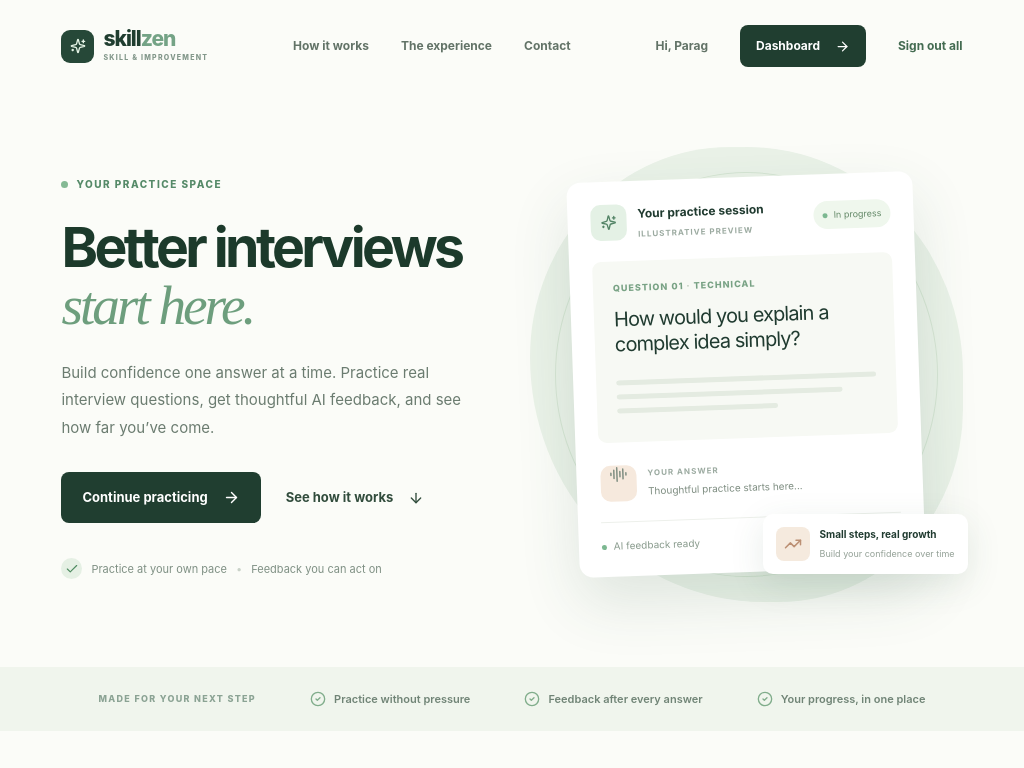
Test: landing page session › restores signed-in UI on a fresh visit and explicitly logs out
Check: the text "Hi, Parag" is shown, box [655,37,708,55]
Step 1. Click the button with aria-label "Sign out on all devices" → (930, 46), box [898,27,962,65]
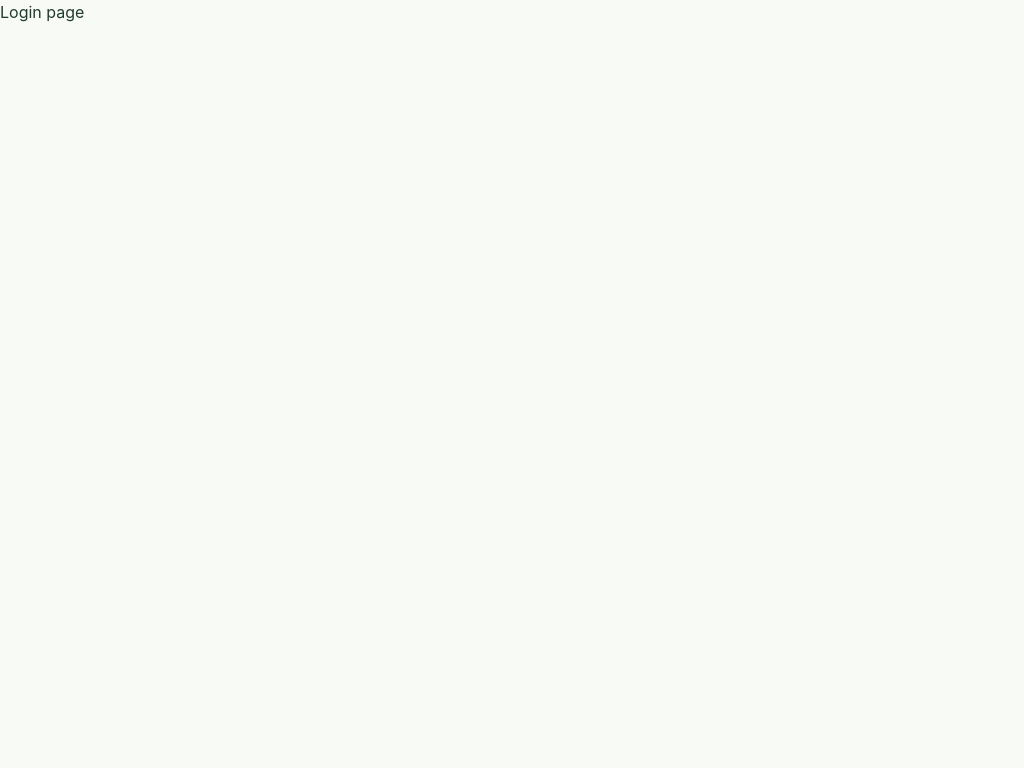
Check: the text "Login page" is shown, box [0,2,84,22]
